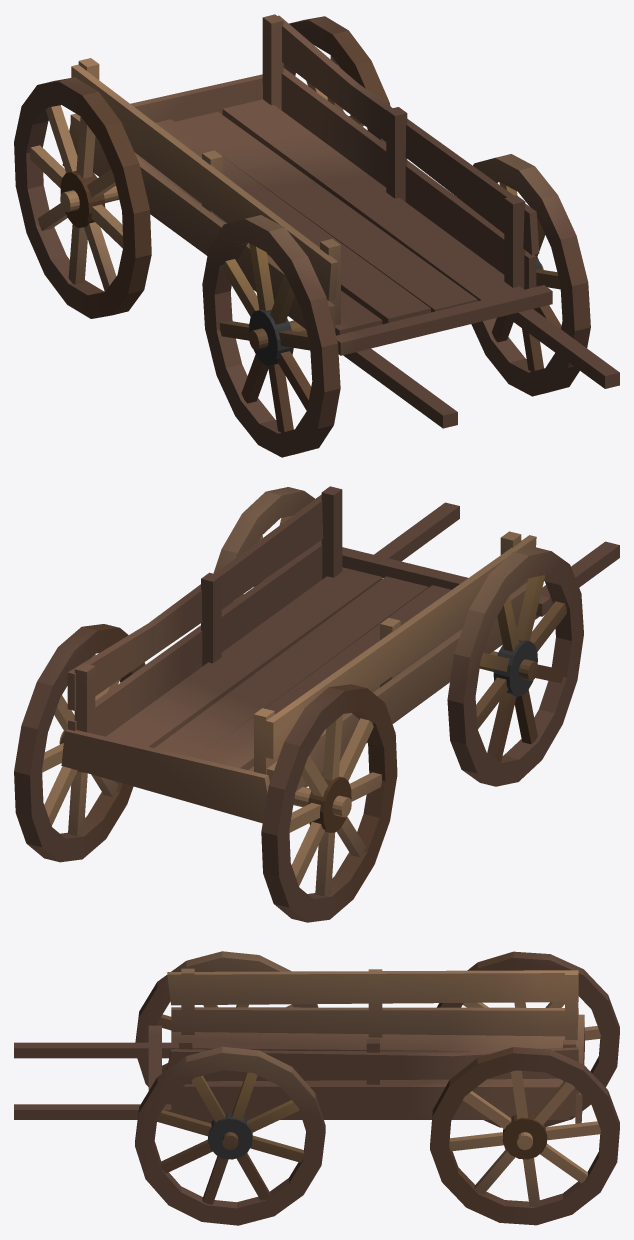
File: cart_small_2.gltf
3 views of the same model, one above another, from view 1: azimuth 30°, elevation 25°; view 2: azimuth 150°, elevation 25°; view 3: azimuth 270°, elevation 25° (orthographic). The views are drawn at different scales.
Parts seen in each view (by area): view 1: Cart Small size 2; view 2: Cart Small size 2; view 3: Cart Small size 2.
Boxes of the visible parts, left/top/right/bottom form: Cart Small size 2: left=14, top=14, right=619, bottom=457; Cart Small size 2: left=14, top=486, right=619, bottom=922; Cart Small size 2: left=14, top=951, right=619, bottom=1225.
Size of what is drawn, in the model's own units: 1.37 by 1.02 by 3.23.
1 material, 1 textured.
